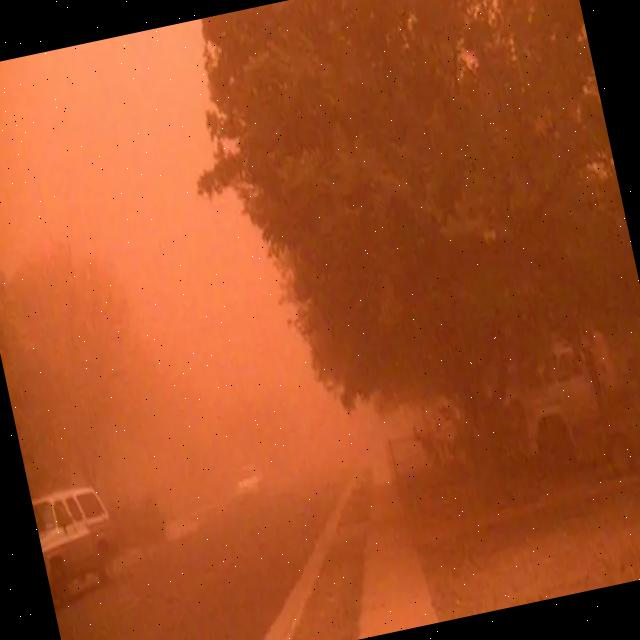bus: (496, 309, 640, 477)
car: (30, 479, 130, 605), (589, 376, 640, 477), (228, 460, 262, 501)
